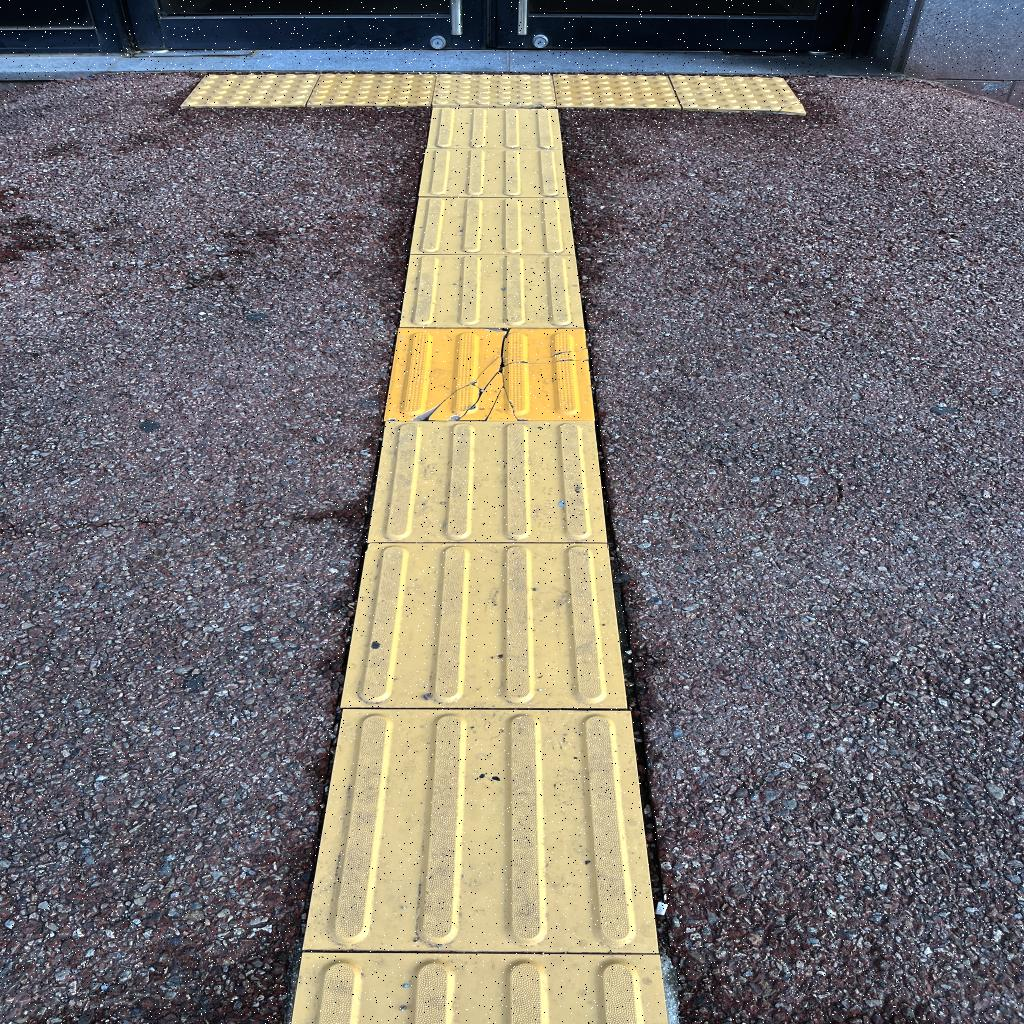Straight block broken: (384, 327, 592, 420)
Straight block normal: (368, 421, 605, 542), (411, 197, 575, 254)
